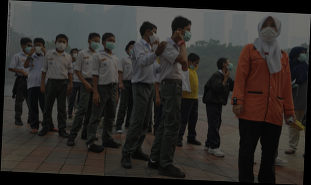mask_weared_incorrect: (191, 60, 200, 70)
with_mask: (260, 20, 279, 43), (181, 26, 192, 43), (55, 38, 68, 51), (105, 38, 116, 51), (90, 38, 101, 51), (296, 50, 307, 62), (151, 40, 161, 53), (149, 28, 157, 43), (34, 43, 44, 54), (24, 42, 33, 54), (226, 60, 233, 73), (72, 50, 78, 59)
